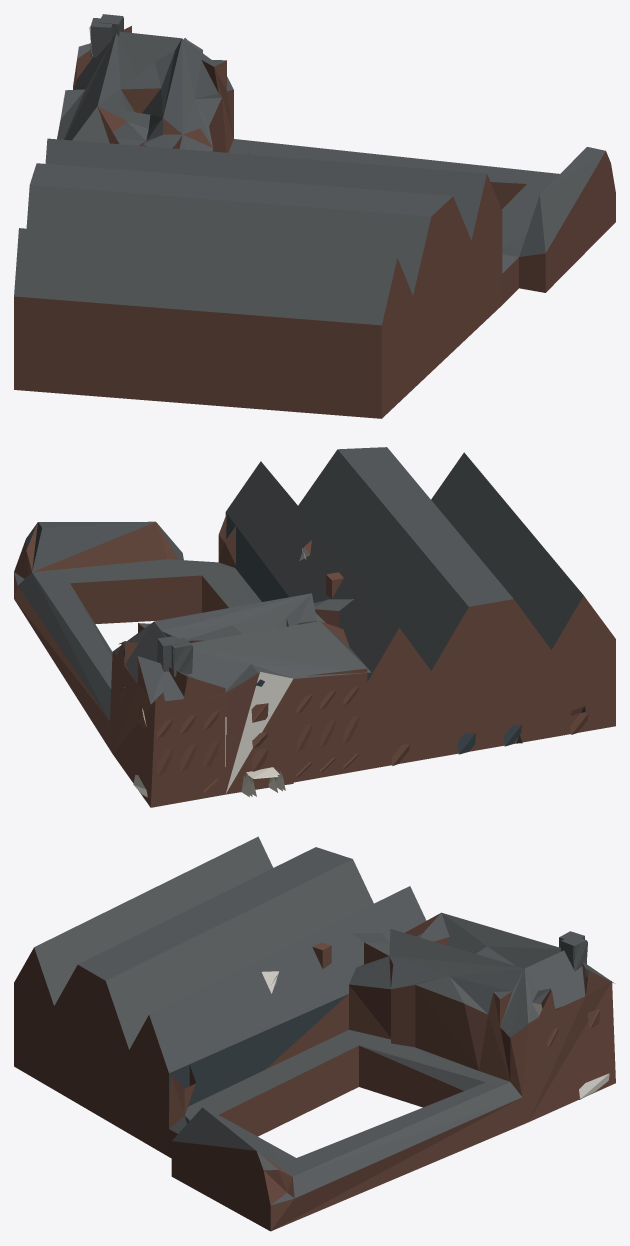
File: academie-van-bouwkunst.lod2.glb
3 renders of one model, top to bottom at view 1: azimuth 30°, elevation 25°; view 2: azimuth 150°, elevation 25°; view 3: azimuth 270°, elevation 25°, orthographic. The views are drawn at different scales.
Parts seen in each view (by area): view 1: lod2; view 2: lod2; view 3: lod2.
Boxes of the visible parts, x1,y1,x2,y2 form: lod2: (14,14,615,418); lod2: (14,447,615,807); lod2: (14,836,615,1231).
Bounding box in the file's own units: 64.28 × 15.83 × 59.97.
